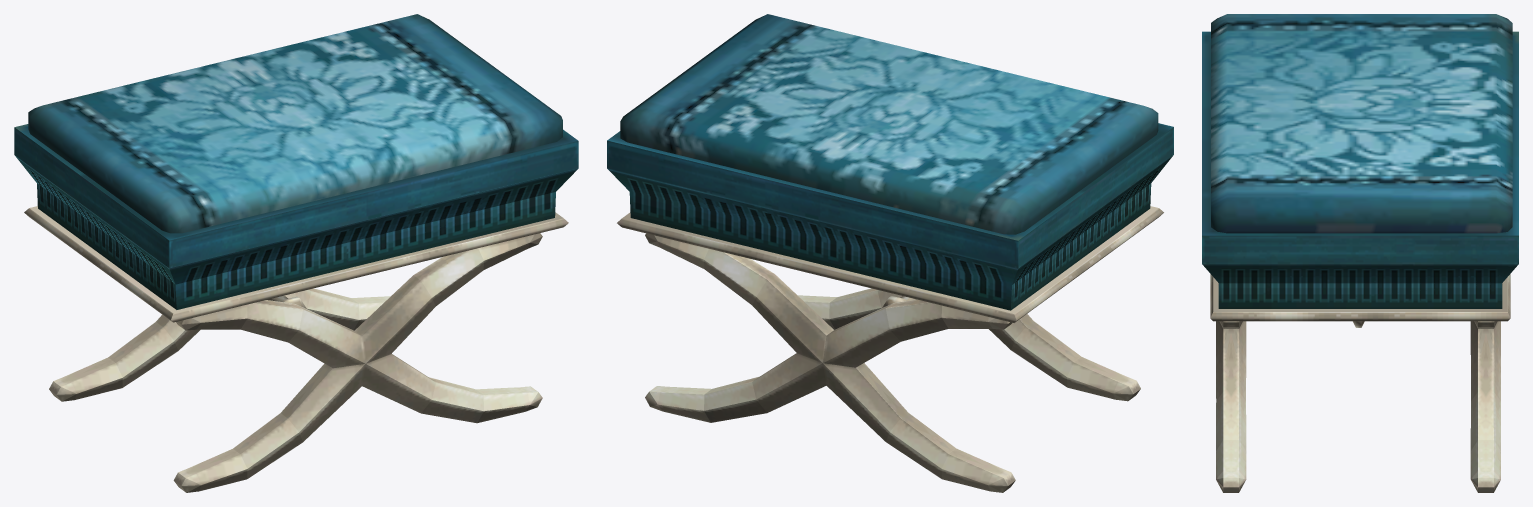
The model's file is furni_0201116_03.FBX.
3 views of the same model, side by side, from view 1: azimuth 30°, elevation 25°; view 2: azimuth 150°, elevation 25°; view 3: azimuth 270°, elevation 25° (orthographic). The views are drawn at different scales.
Visible parts, largest first — view 1: furni_0201116_03; view 2: furni_0201116_03; view 3: furni_0201116_03.
Part boxes in pixels (x1,y1,x2,y2): furni_0201116_03: (14, 14, 578, 492); furni_0201116_03: (607, 14, 1173, 492); furni_0201116_03: (1202, 14, 1518, 492).
Size of the model in its own units: 65.56 by 44.99 by 43.
Materials: 1 (1 with a texture image).
